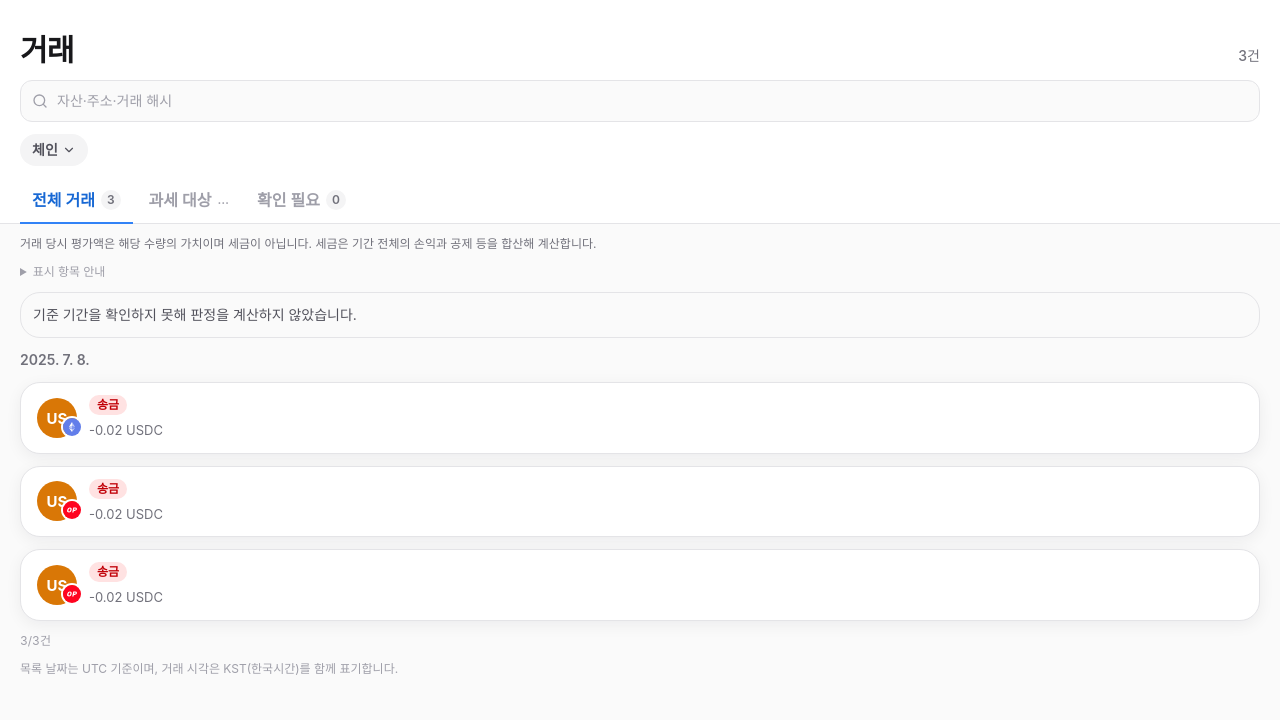
Scenario: 필터는 칩 한 줄이다 › 칩을 누르면 시트가 열리고 항목마다 건수가 붙는다
Click the button "체인" at (54, 150), box [20, 134, 88, 166]
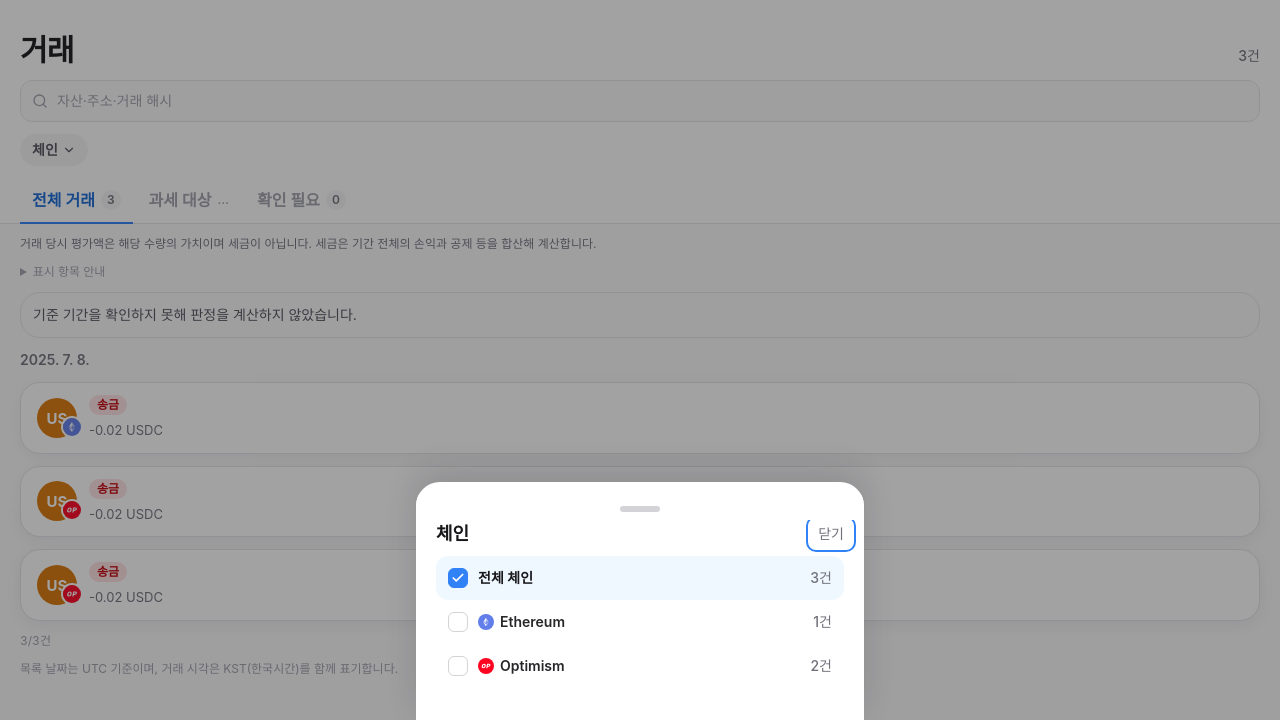
Now the button "전체 체인 3건" is shown, box [436, 556, 844, 600]
Now the button "Optimism 2건" is shown
Click the button "Optimism 2건" at (532, 666), box [436, 644, 844, 688]
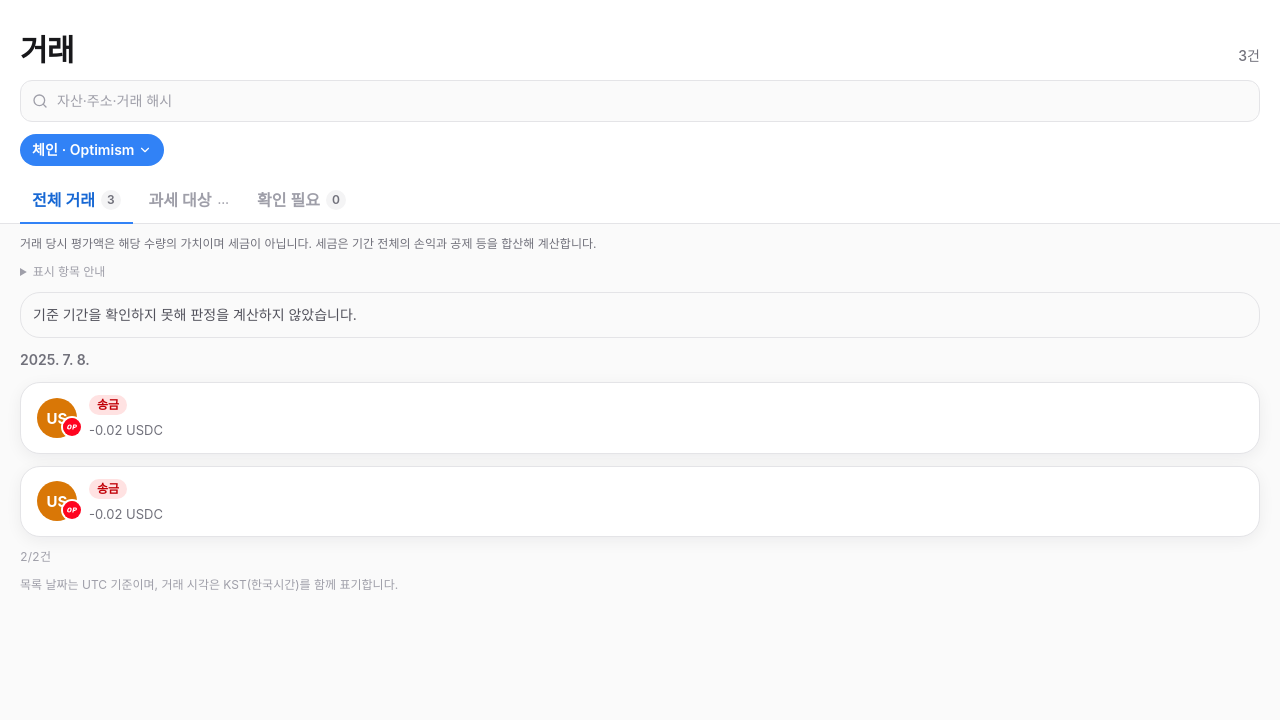
Now the button "체인 · Optimism" is shown, box [20, 134, 164, 166]
